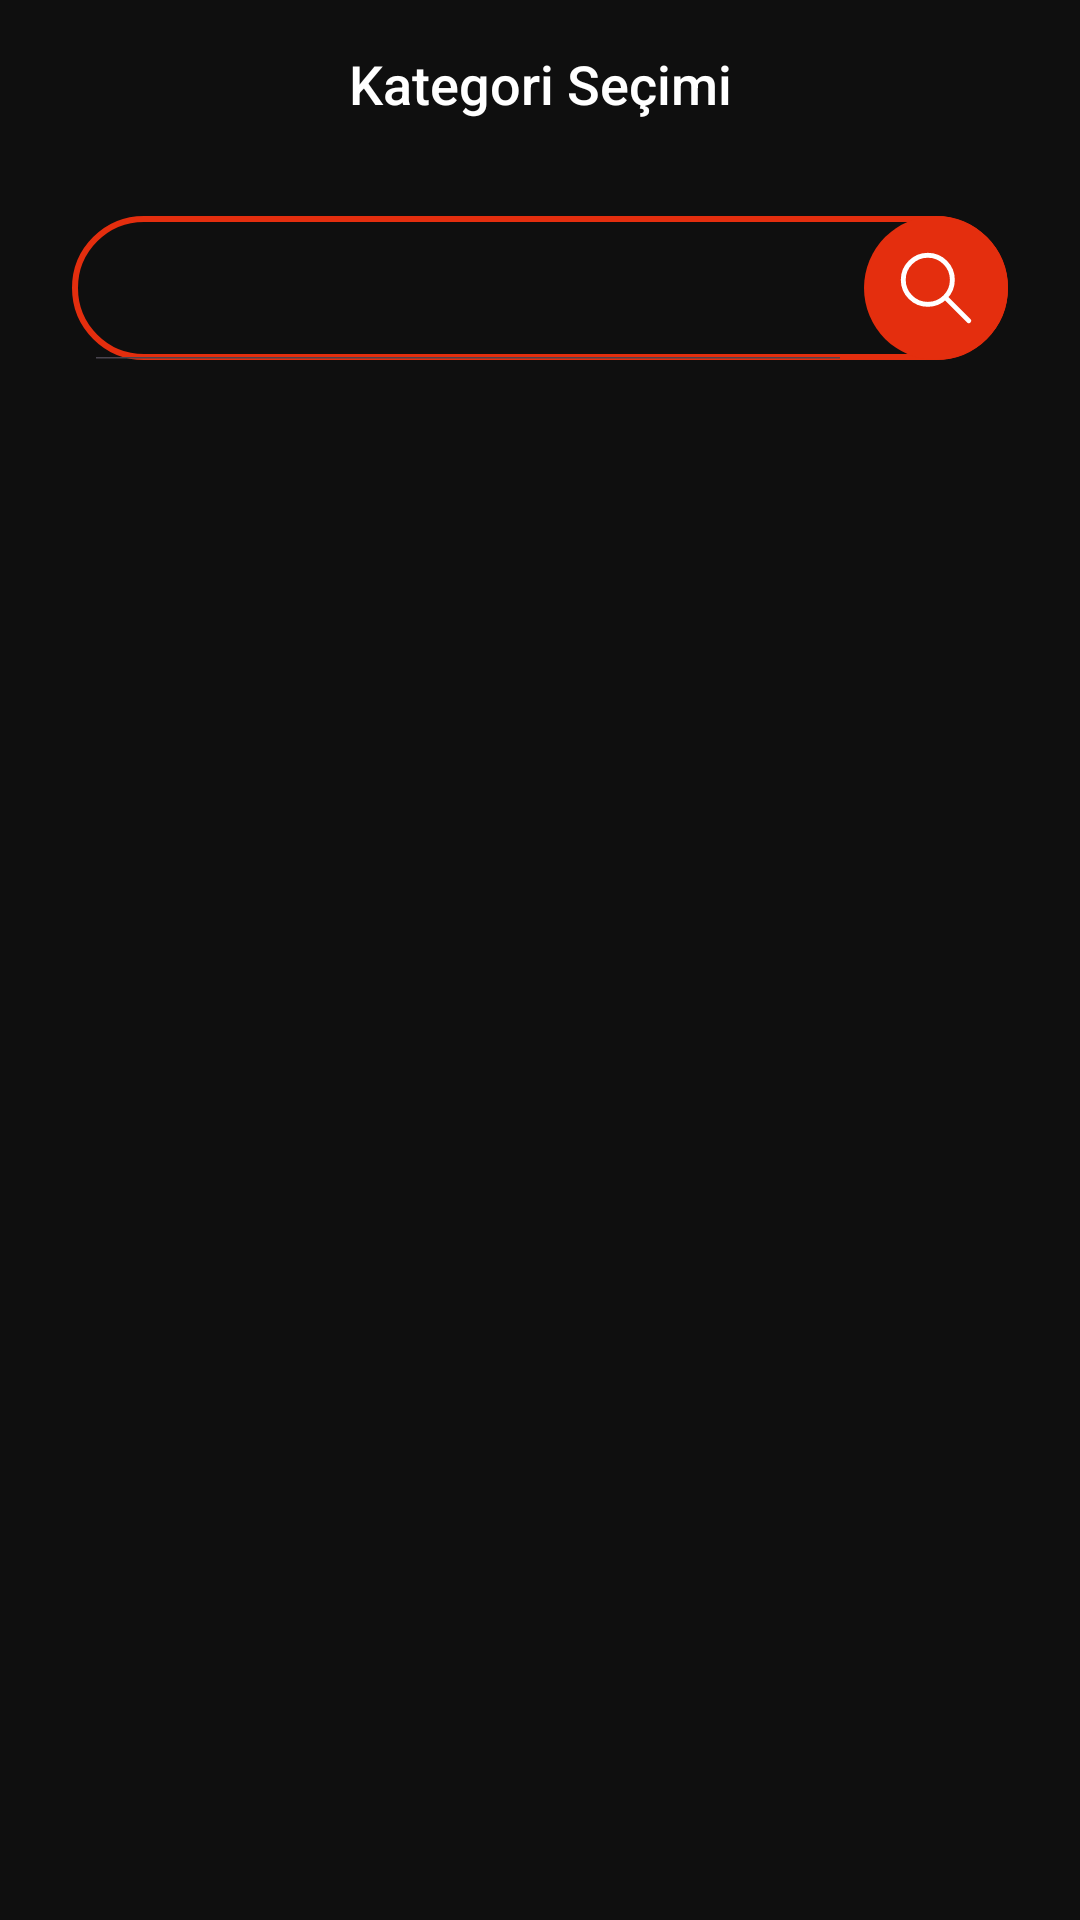

Where icons sit on this 1080px×1920px app screen, as (x1, y1, x2, y2):
card search: (864, 216, 1008, 360)
